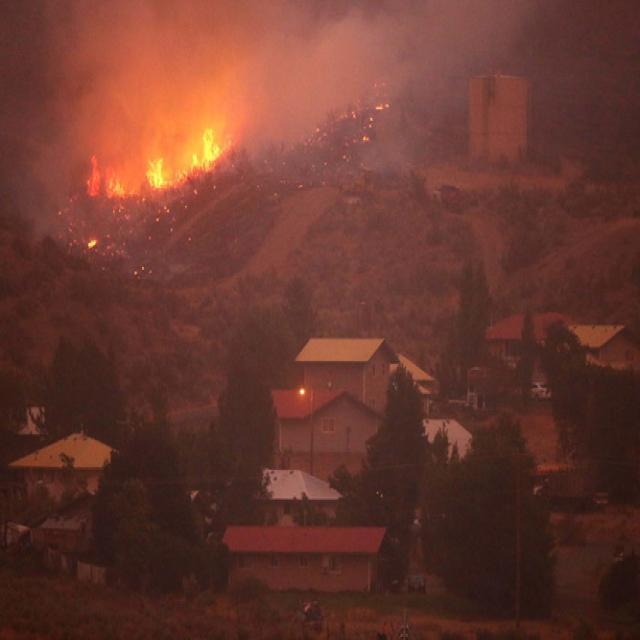Smoke: (6, 0, 168, 258), (361, 0, 548, 193), (253, 0, 422, 174)
